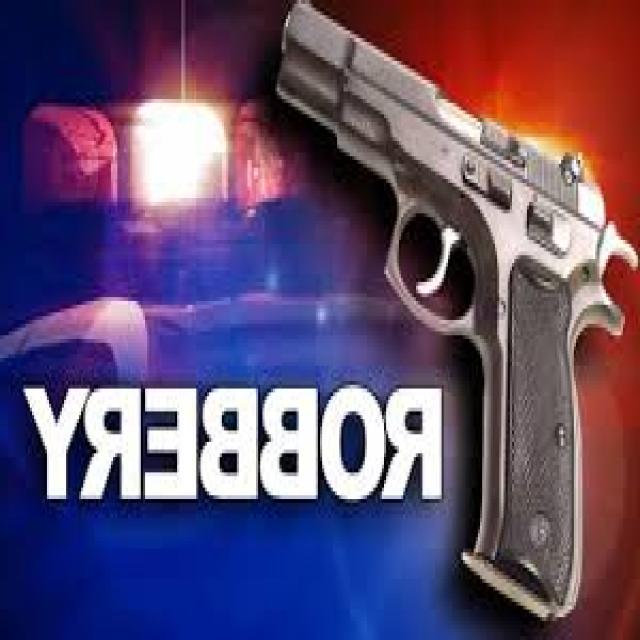pistol: (282, 0, 638, 613)
